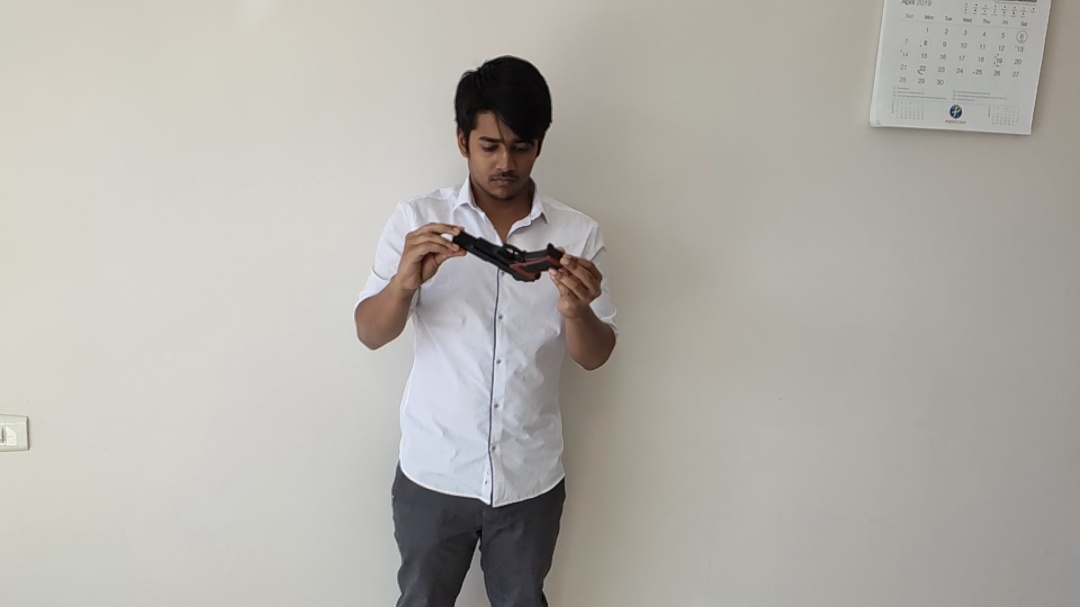gun: (456, 226, 566, 283)
